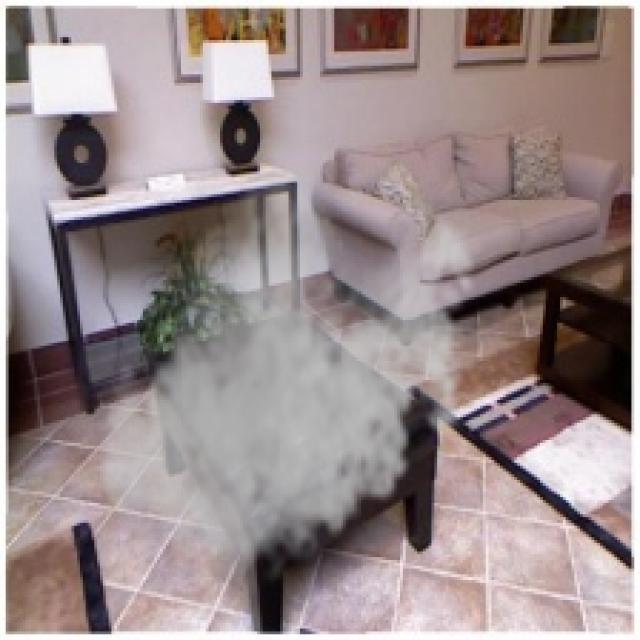smoke: (91, 172, 488, 592)
